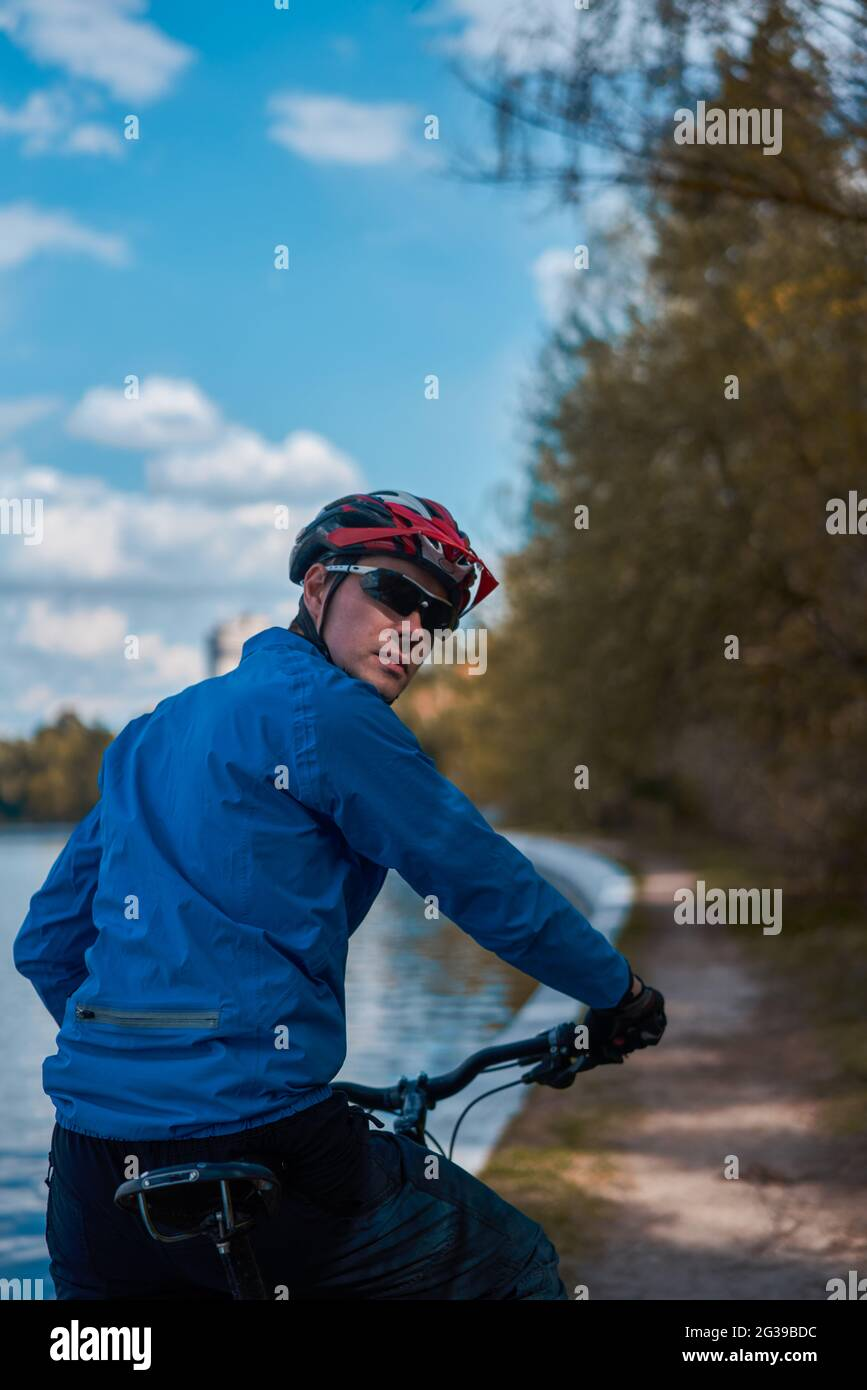helmet: (289, 490, 500, 707)
